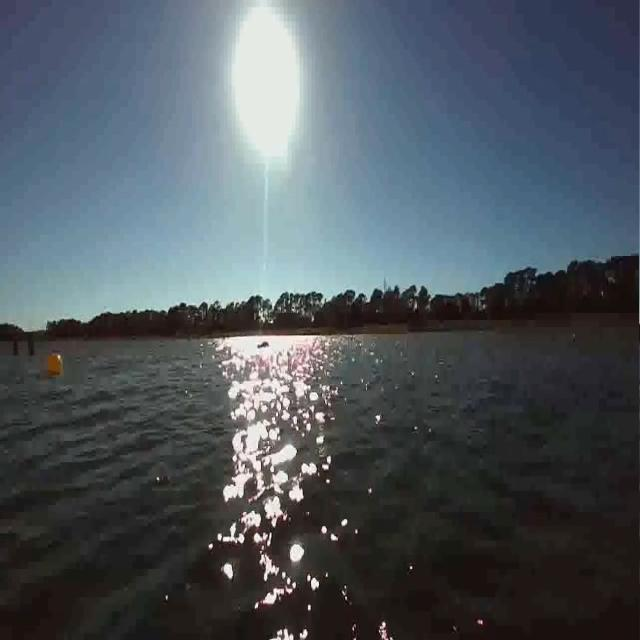yellow-buoy: (44, 348, 64, 378)
